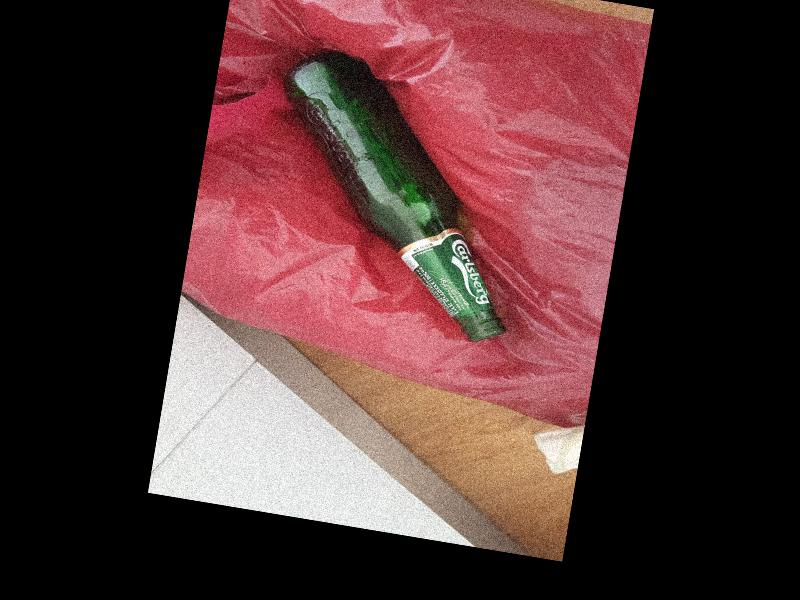Beer: (250, 45, 547, 347)
